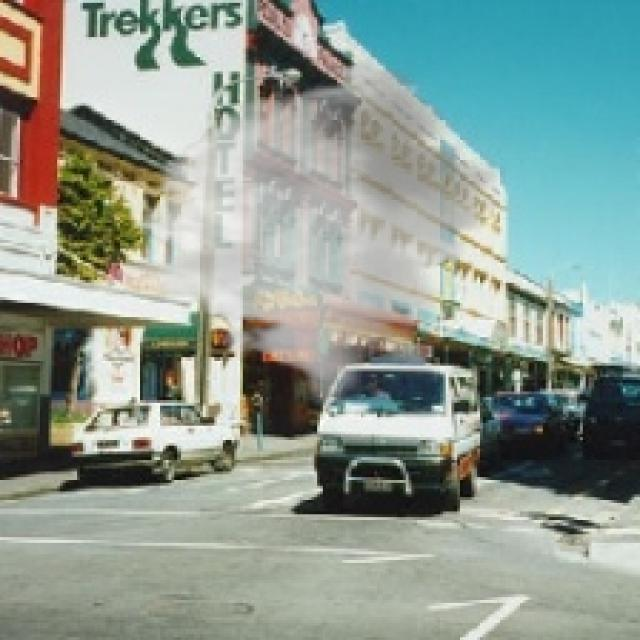Smoke: (111, 57, 506, 409)
